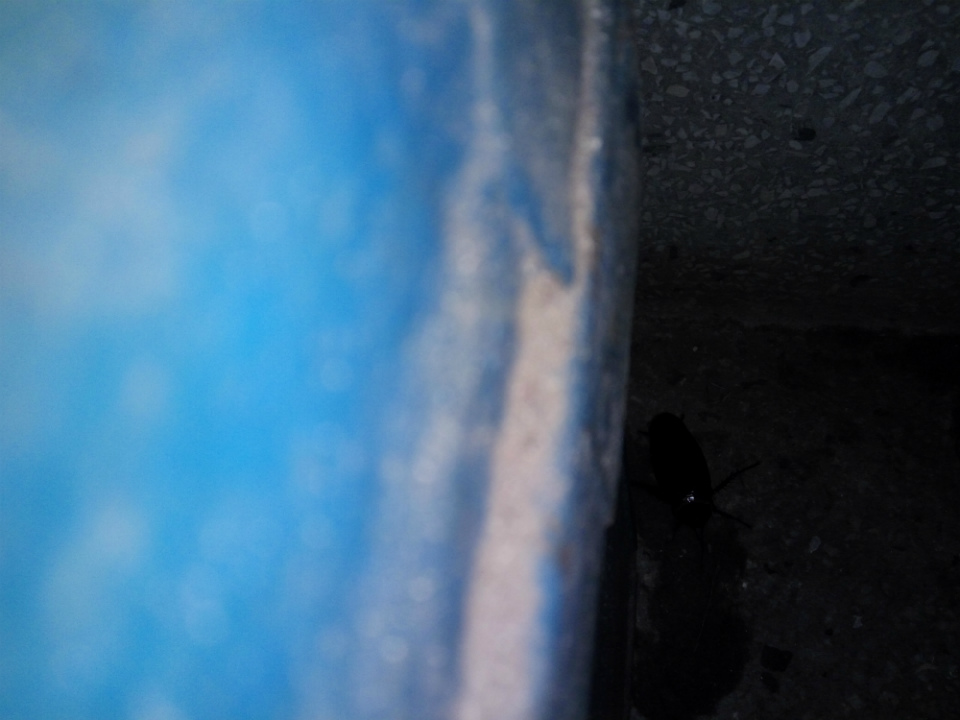cockroach: (637, 388, 754, 622)
